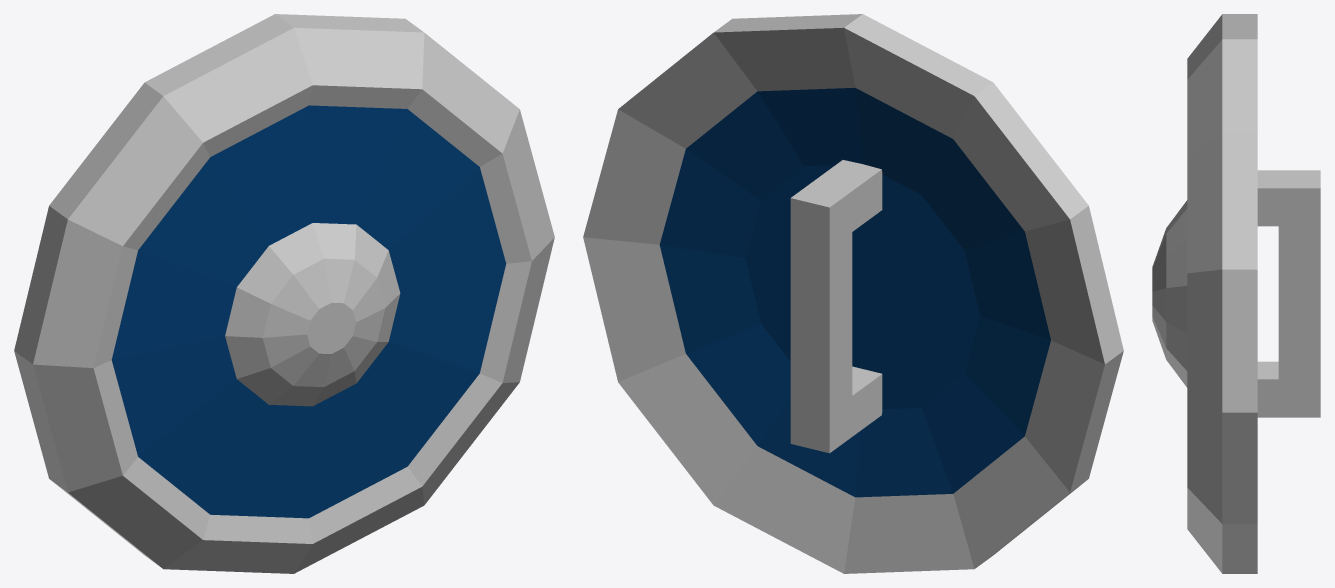
Rendered from Shield_02.fbx.
3 renders of one model, left to right at view 1: azimuth 30°, elevation 25°; view 2: azimuth 150°, elevation 25°; view 3: azimuth 270°, elevation 25°, orthographic. The views are drawn at different scales.
Parts seen in each view (by area): view 1: Shield_02; view 2: Shield_02; view 3: Shield_02.
Part boxes in pixels (x1=…): Shield_02: x1=14, y1=14, x2=554, y2=573; Shield_02: x1=583, y1=14, x2=1123, y2=573; Shield_02: x1=1152, y1=14, x2=1320, y2=573.
Bounding box in the file's own units: 80 × 80 × 24.
Materials: 1 (1 with a texture image).
